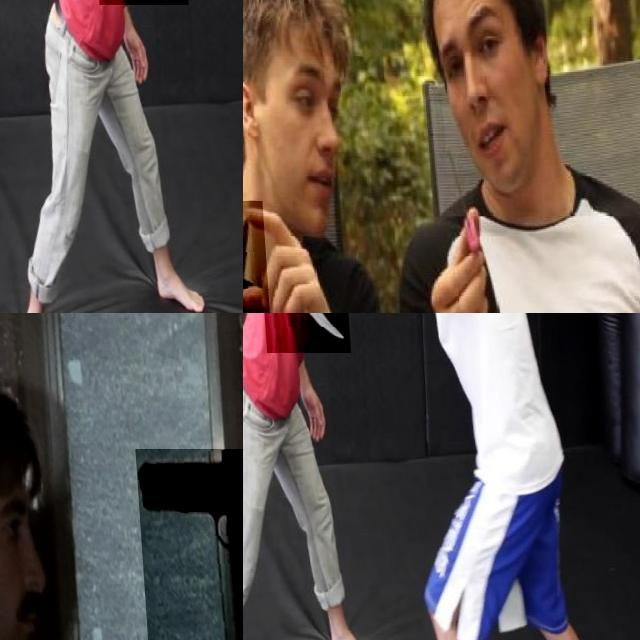-: (432, 133, 503, 313), (90, 0, 184, 53), (257, 313, 347, 367), (243, 200, 282, 313)
gun-knife-thesis - v11 Yolov5 augmented: (133, 449, 243, 640)
